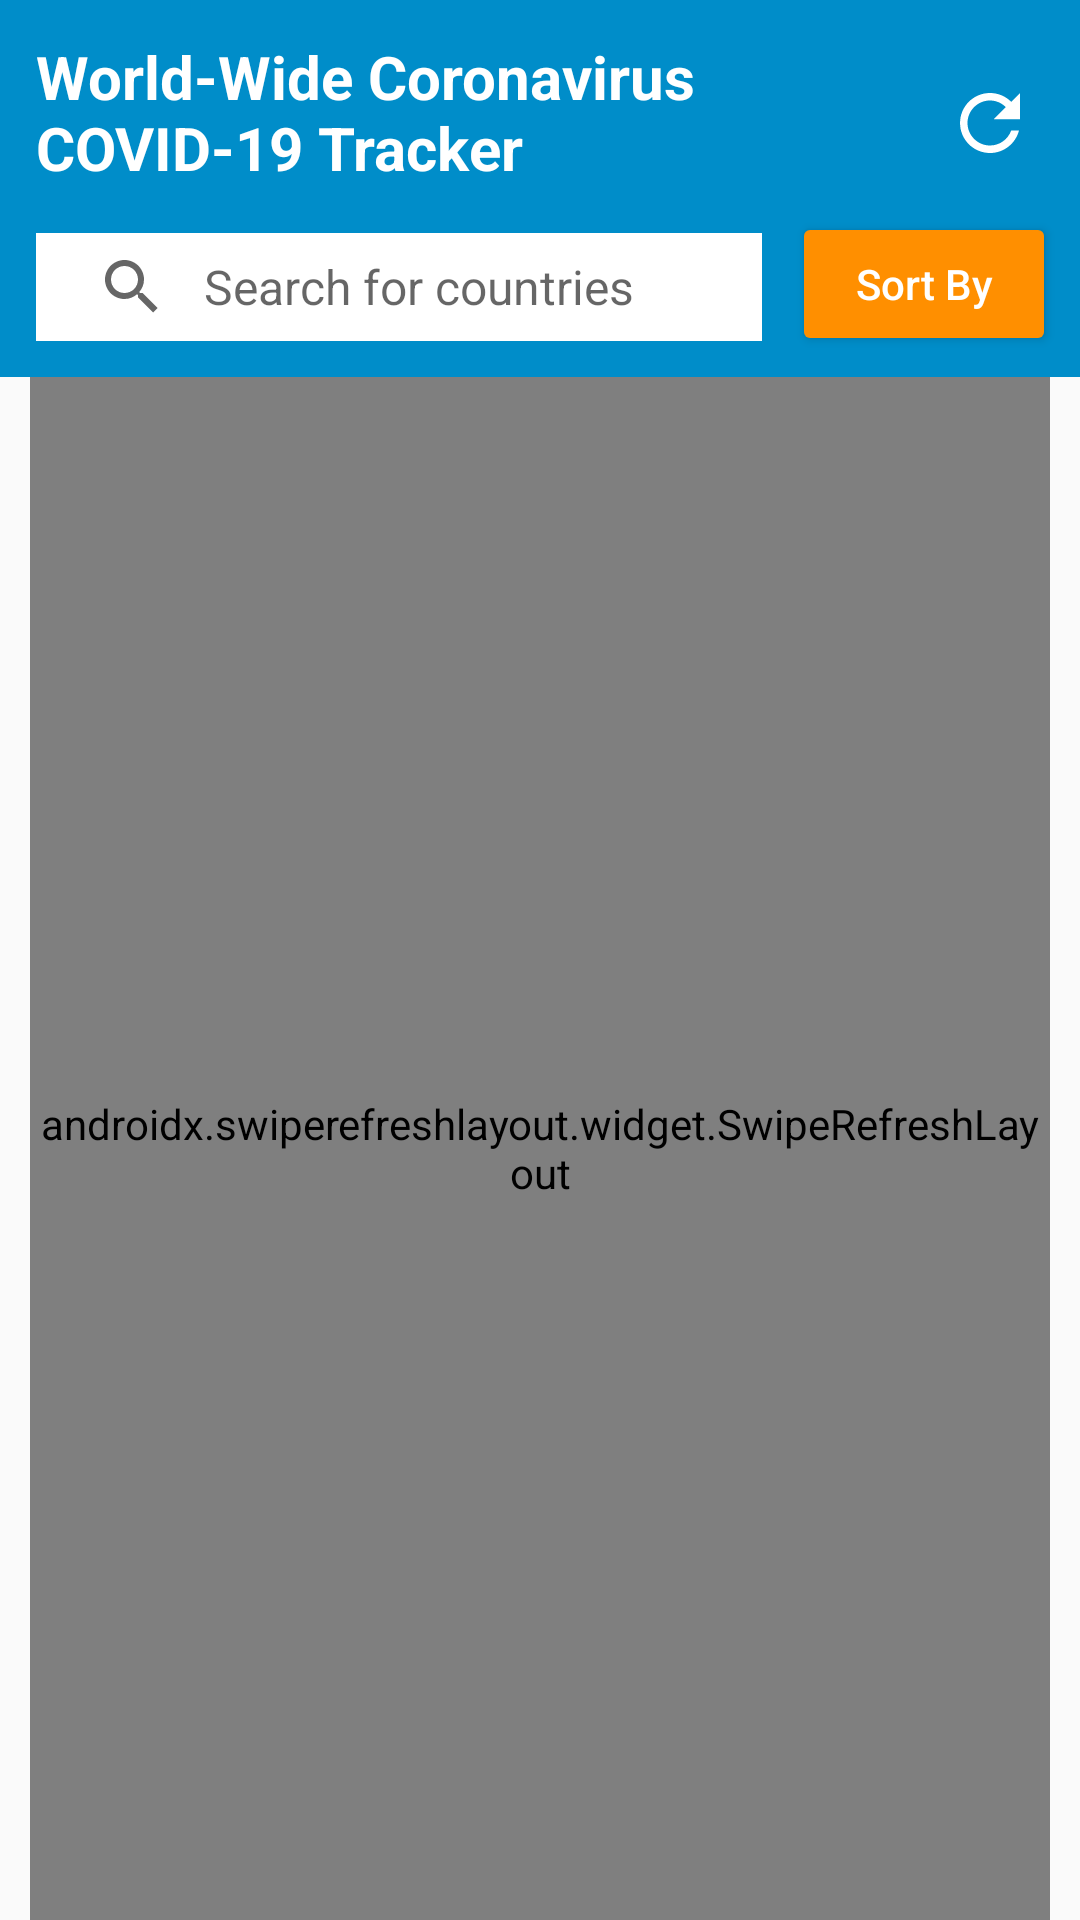

Where icons sit on this 1080 × 1920 app screen, as bbox(x1, y1, x2, y2):
refresh: bbox(960, 93, 1020, 153)
